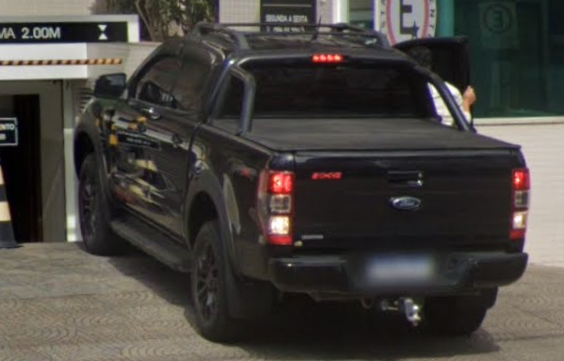car: (70, 24, 531, 351)
